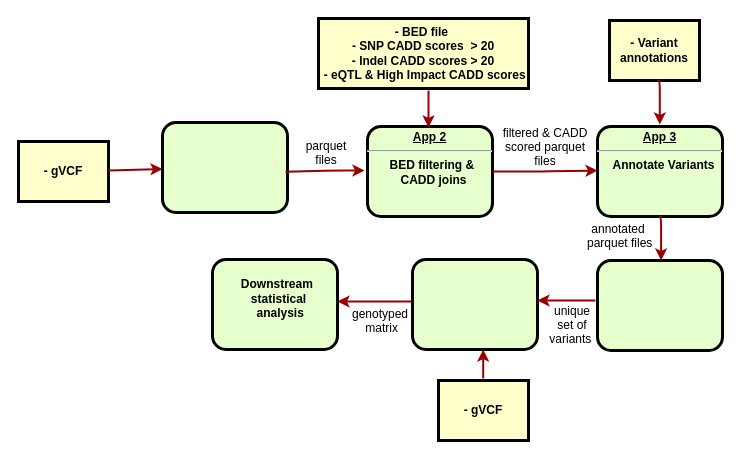
Some shapes in this 741 by 459 pixel diagram are drawn without their labels. The shapes that lost their labels are listed below. From the top down, each one's box as (x1, y1, x2, y2) in pixels, then its label:
(160, 120, 288, 214): App 1 Convert gVCF files to parquet format
(410, 258, 538, 350): App 5 Find Variants
(596, 258, 724, 352): App 4 Aggregate Variants (data studio)
